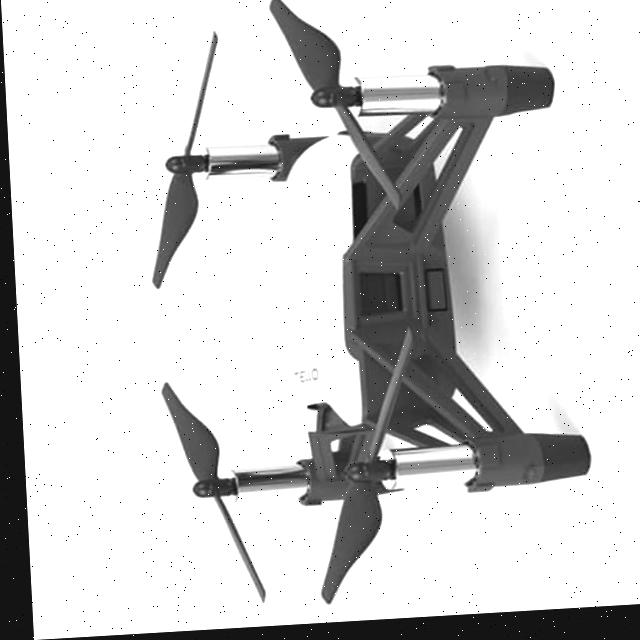drone: (128, 0, 536, 578)
